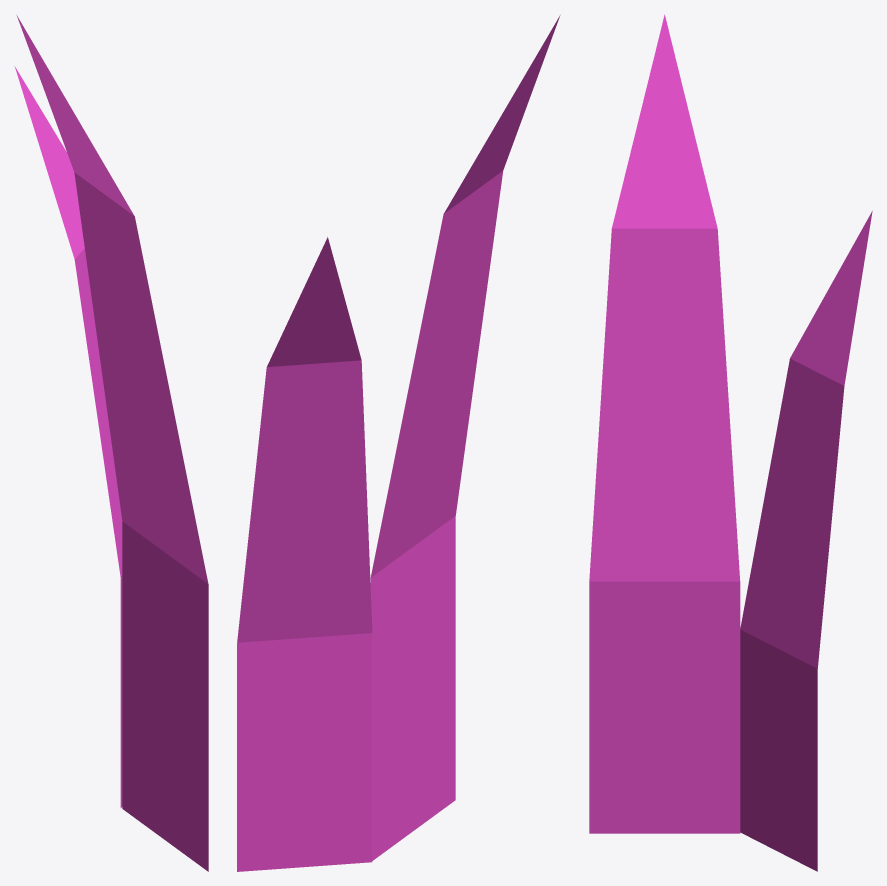
The model's file is Grass_B_005.fbx.
3 renders of one model, left to right at view 1: azimuth 30°, elevation 25°; view 2: azimuth 150°, elevation 25°; view 3: azimuth 270°, elevation 25°, orthographic. The views are drawn at different scales.
Parts seen in each view (by area): view 1: Grass B.005; view 2: Grass B.005; view 3: Grass B.005.
Boxes of the visible parts, x1=… form: Grass B.005: x1=14, y1=15, x2=208, y2=871; Grass B.005: x1=237, y1=15, x2=560, y2=871; Grass B.005: x1=589, y1=14, x2=872, y2=871.
Size of the model in its own units: 6.15 by 21.12 by 7.18.
